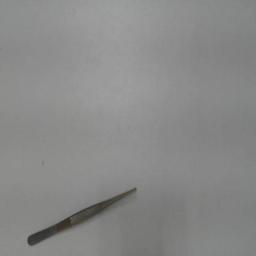Gillies Toothed Dissector: (22, 181, 144, 247)
